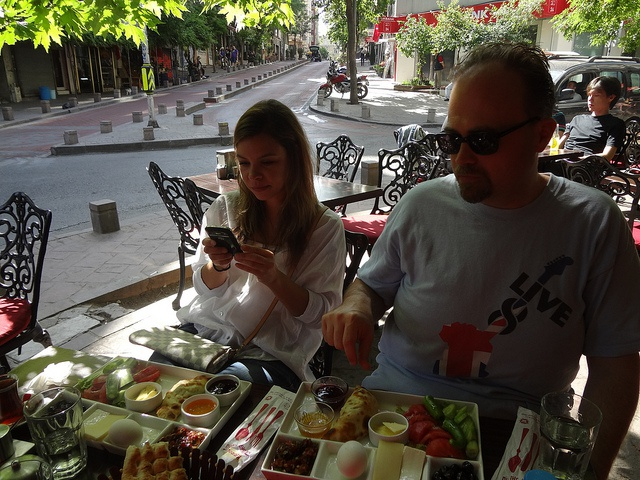non-vehicle: (318, 70, 368, 99), (325, 60, 349, 81)
